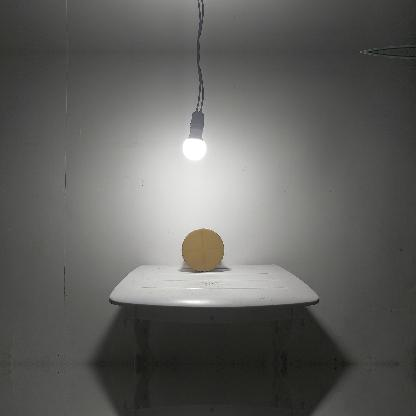Lady-s-Choice: (179, 226, 225, 272)
